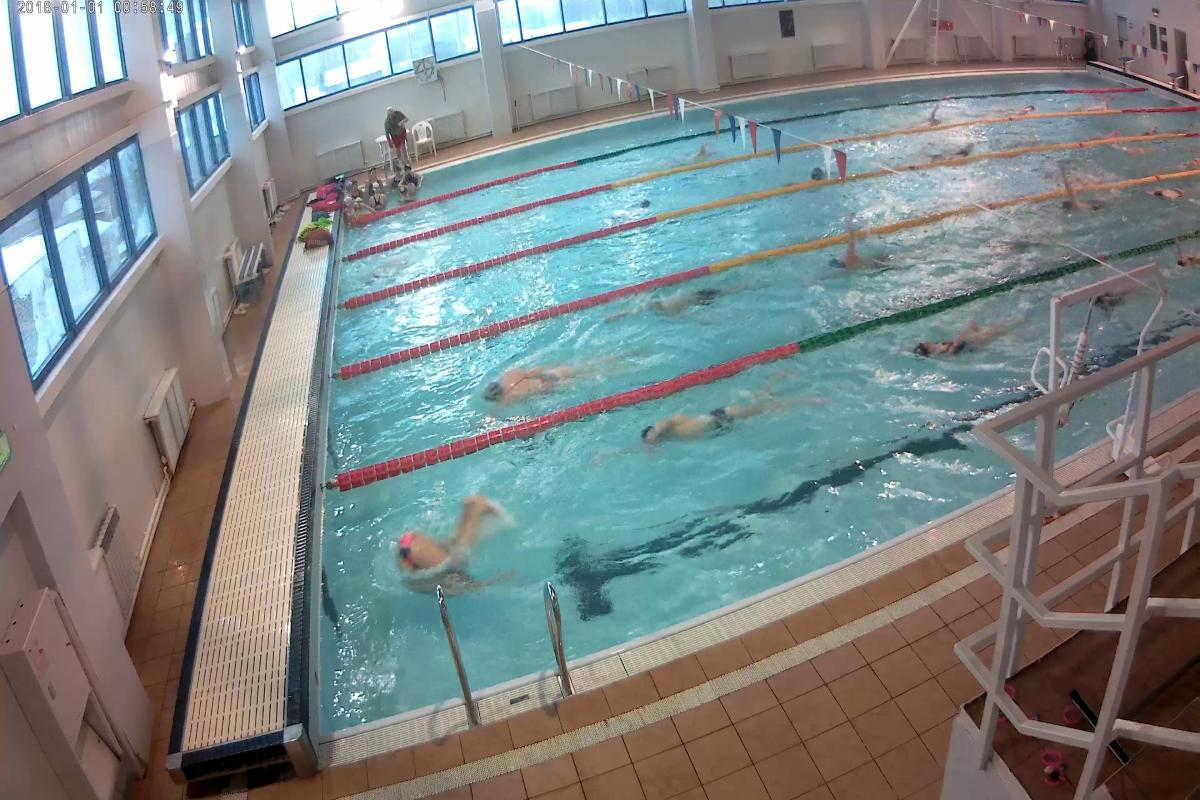swimmer: (630, 383, 814, 445), (395, 504, 503, 594), (486, 356, 649, 397), (652, 275, 780, 315), (890, 316, 1024, 354), (836, 243, 922, 274), (1056, 186, 1111, 218), (1156, 178, 1196, 204), (1094, 286, 1140, 308)
